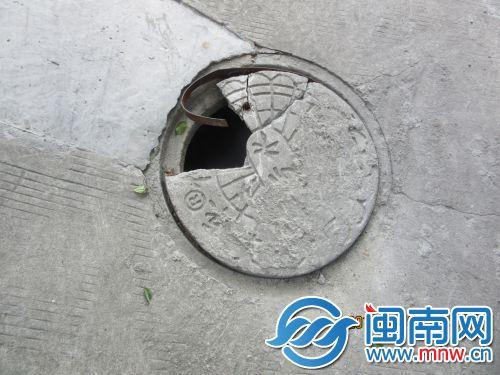broke: (132, 43, 395, 292)
